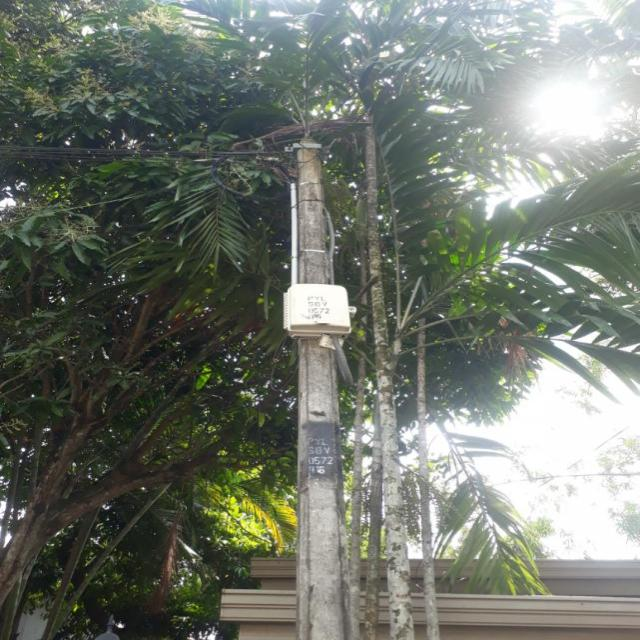light_pole: (269, 127, 354, 640)
